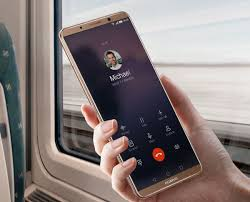huawei: (54, 10, 206, 199)
